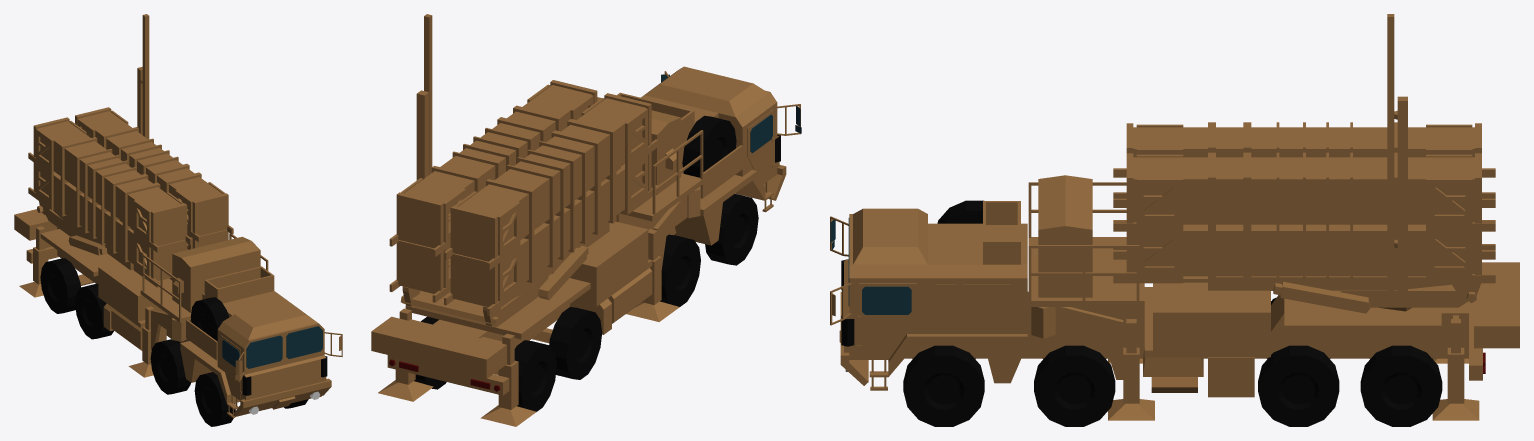
File: MIM-104 Patriot_NATO-Desert.fbx
3 renders of one model, left to right at view 1: azimuth 30°, elevation 25°; view 2: azimuth 150°, elevation 25°; view 3: azimuth 270°, elevation 25°, orthographic. The views are drawn at different scales.
Visible parts, largest first — view 1: Patriot_Body, Patriot_Rocket-Launcher, Patriot_Body_Glass-Parts, Patriot_Wheel-Back_R-2, Patriot_Wheel-Forward_R-2, Patriot_Wheel-Forward_R-1, Patriot_Wheel-Back_R-1, Patriot_Rocket-Launcher_Cap-1_Forward, Patriot_Rocket-Launcher_Cap-2_Forward, Patriot_Rocket-Launcher_Antenna, Patriot_Body_Absorber-Forward-R, Patriot_Spare-Wheel (+6 smaller); view 2: Patriot_Body, Patriot_Rocket-Launcher, Patriot_Wheel-Back_R-1, Patriot_Wheel-Forward_R-1, Patriot_Wheel-Back_R-2, Patriot_Wheel-Forward_R-2, Patriot_Rocket-Launcher_Cap-1_Back, Patriot_Rocket-Launcher_Cap-2_Back, Patriot_Rocket-Launcher_Antenna, Patriot_Spare-Wheel, Patriot_Rocket-Launcher_Cap-3_Back, Patriot_Rocket-Launcher_Cap-4_Back (+10 smaller); view 3: Patriot_Body, Patriot_Rocket-Launcher, Patriot_Wheel-Back_L-2, Patriot_Wheel-Forward_L-2, Patriot_Wheel-Back_L-1, Patriot_Wheel-Forward_L-1, Patriot_Rocket-Launcher_Antenna, Patriot_Body_Absorber-Forward-L, Patriot_Turret, Patriot_Body_Glass-Parts, Patriot_Turret_Absorber-Base-L, Patriot_Body_Absorber-Back-L (+3 smaller).
Part boxes in pixels (x1,y1,x2,y2): Patriot_Body: (14,209,342,418); Patriot_Rocket-Launcher: (28,110,233,287); Patriot_Body_Glass-Parts: (222,326,322,368); Patriot_Wheel-Back_R-2: (40,258,80,313); Patriot_Wheel-Forward_R-2: (150,339,190,394); Patriot_Wheel-Forward_R-1: (194,372,235,426); Patriot_Wheel-Back_R-1: (75,283,113,339); Patriot_Rocket-Launcher_Cap-1_Forward: (192,193,228,235); Patriot_Rocket-Launcher_Cap-2_Forward: (151,203,187,246); Patriot_Rocket-Launcher_Antenna: (137,14,149,139); Patriot_Body_Absorber-Forward-R: (142,306,186,364); Patriot_Spare-Wheel: (190,297,229,341); Patriot_Body: (371,66,801,395); Patriot_Rocket-Launcher: (389,84,658,326); Patriot_Wheel-Back_R-1: (549,307,602,379); Patriot_Wheel-Forward_R-1: (705,194,758,265); Patriot_Wheel-Back_R-2: (514,340,556,411); Patriot_Wheel-Forward_R-2: (660,234,700,306); Patriot_Rocket-Launcher_Cap-1_Back: (396,192,443,248); Patriot_Rocket-Launcher_Cap-2_Back: (450,205,497,261); Patriot_Rocket-Launcher_Antenna: (416,14,432,180); Patriot_Spare-Wheel: (682,115,736,177); Patriot_Rocket-Launcher_Cap-3_Back: (396,240,443,293); Patriot_Rocket-Launcher_Cap-4_Back: (450,253,497,307); Patriot_Body: (830,175,1519,397); Patriot_Rocket-Launcher: (1113,122,1495,301); Patriot_Wheel-Back_L-2: (1360,345,1442,426); Patriot_Wheel-Forward_L-2: (1034,345,1115,426); Patriot_Wheel-Back_L-1: (1258,345,1339,426); Patriot_Wheel-Forward_L-1: (903,345,984,426); Patriot_Rocket-Launcher_Antenna: (1387,14,1407,302); Patriot_Body_Absorber-Forward-L: (1031,307,1139,403); Patriot_Turret: (1340,284,1476,307); Patriot_Body_Glass-Parts: (830,218,911,314); Patriot_Turret_Absorber-Base-L: (1280,281,1370,313); Patriot_Body_Absorber-Back-L: (1447,315,1464,403).
Size of the model in its own units: 304 by 751 by 1141.
